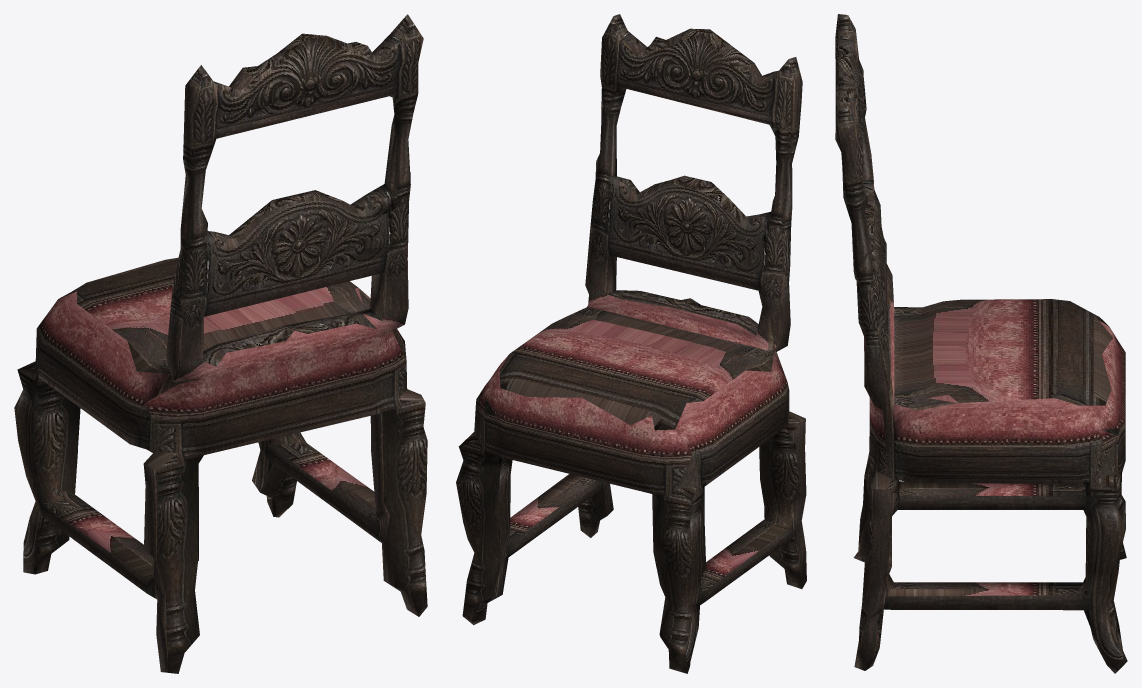
The model's file is chair_high.glb.
The picture shows the model from 3 angles, left to right: view 1: azimuth 30°, elevation 25°; view 2: azimuth 150°, elevation 25°; view 3: azimuth 270°, elevation 25°; orthographic projection. The views are drawn at different scales.
Visible parts, largest first — view 1: chair_high; view 2: chair_high; view 3: chair_high.
Part boxes in pixels (x1,y1,x2,y2): chair_high: (14, 14, 427, 673); chair_high: (456, 14, 806, 673); chair_high: (835, 14, 1127, 673).
Size of the model in its own units: 0.4878 by 1.04 by 0.4898.
Materials: 1 (1 with a texture image).
